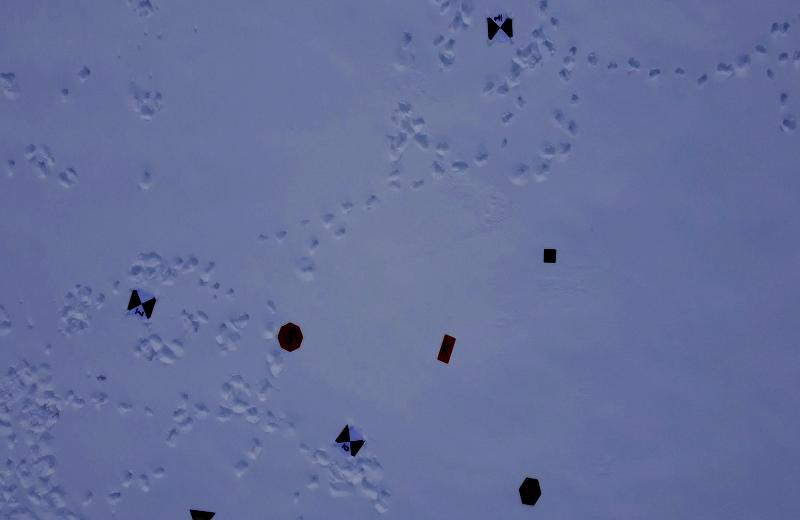Hexagon: (515, 473, 546, 511)
Octagon: (275, 321, 306, 355)
Rectangle: (437, 332, 457, 368)
Square: (541, 245, 558, 269)
Triangle: (188, 503, 216, 520)
